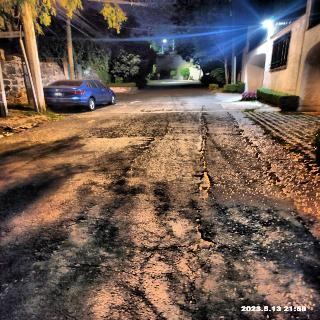pothole: (188, 101, 218, 320)
